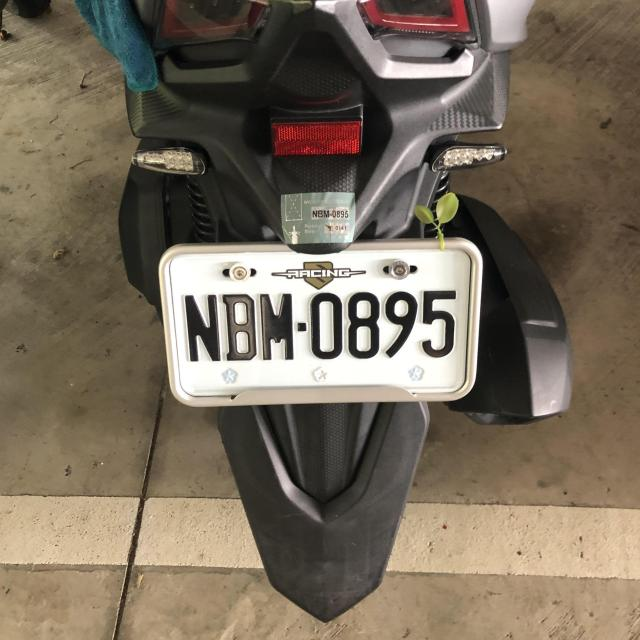W: (158, 237, 484, 401)
